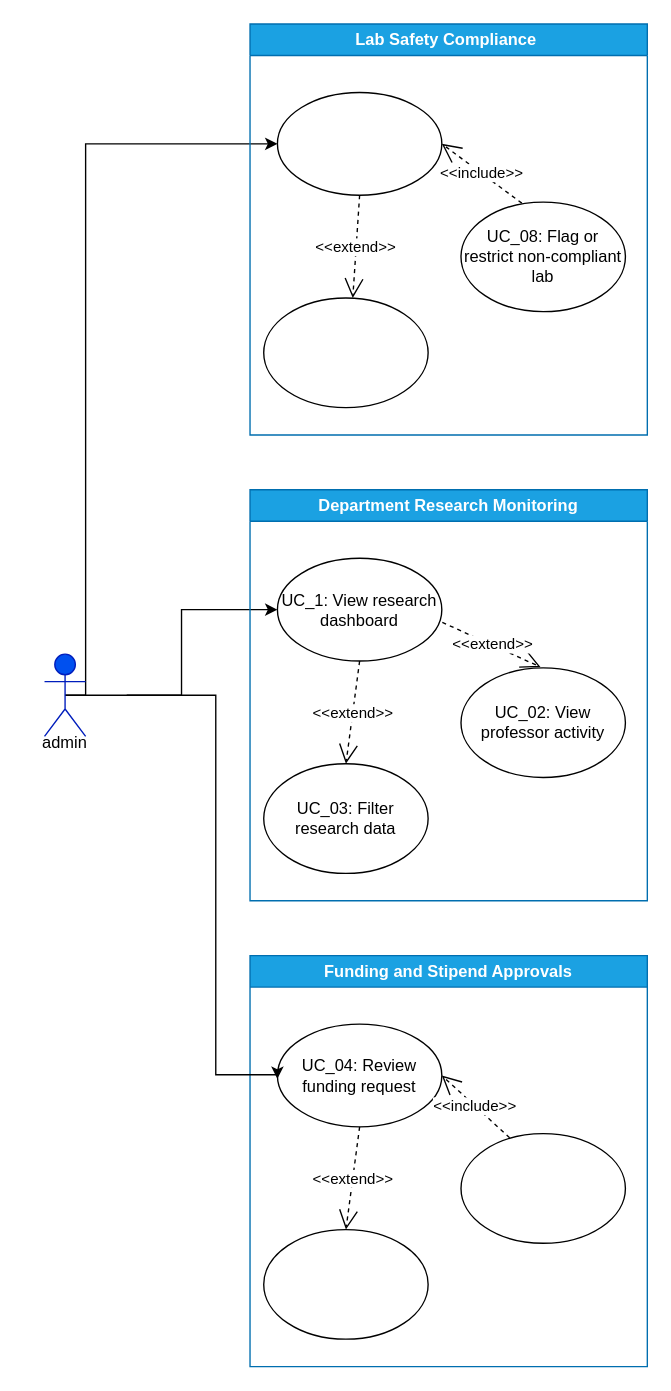
Some shapes in this 671 by 1391 pixel diagram are drawn without their labels. Each missing label, with the centre of its shape:
UC_05: Approve or deny stipend payment: point (542, 1187)
UC_06: View funding history: point (345, 1283)
UC_07: View lab safety compliance status: point (359, 143)
UC_09: Review certification alerts: point (345, 352)
